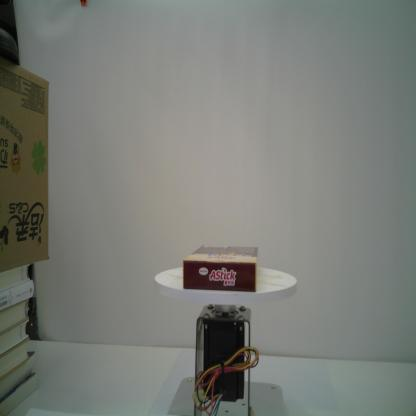Dessert: (181, 243, 259, 295)
